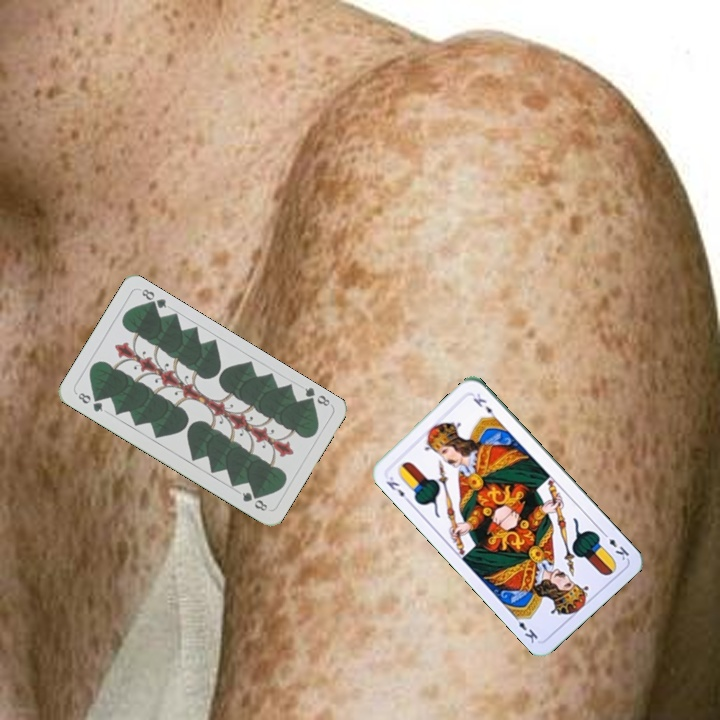EK: (598, 528, 632, 563), (382, 473, 413, 505)
G8: (300, 383, 333, 409), (74, 388, 105, 414)
